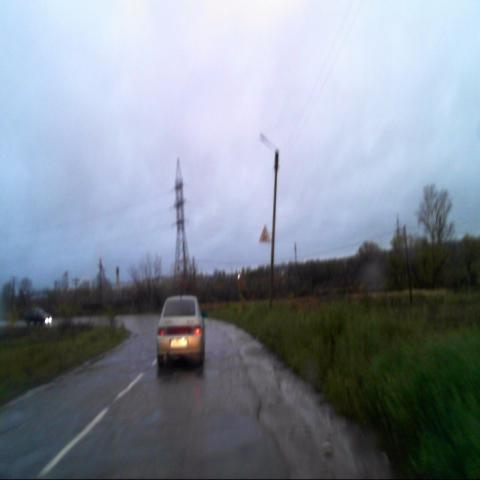1_2: (259, 223, 271, 243)
